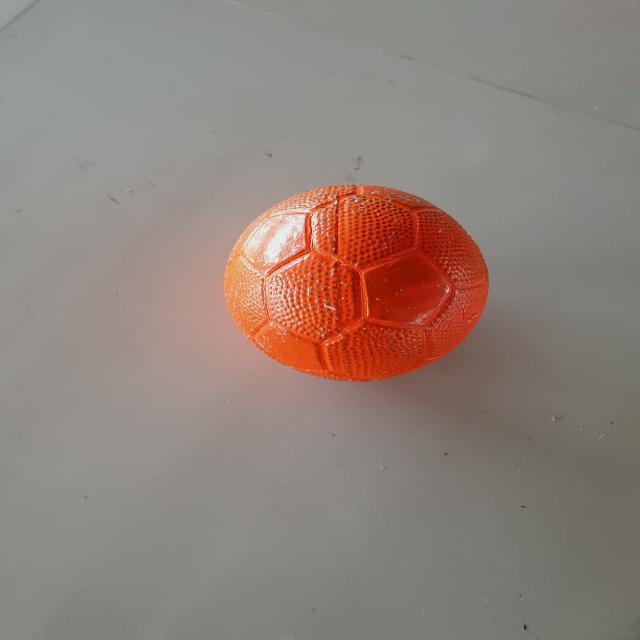bola: (221, 180, 498, 389)
